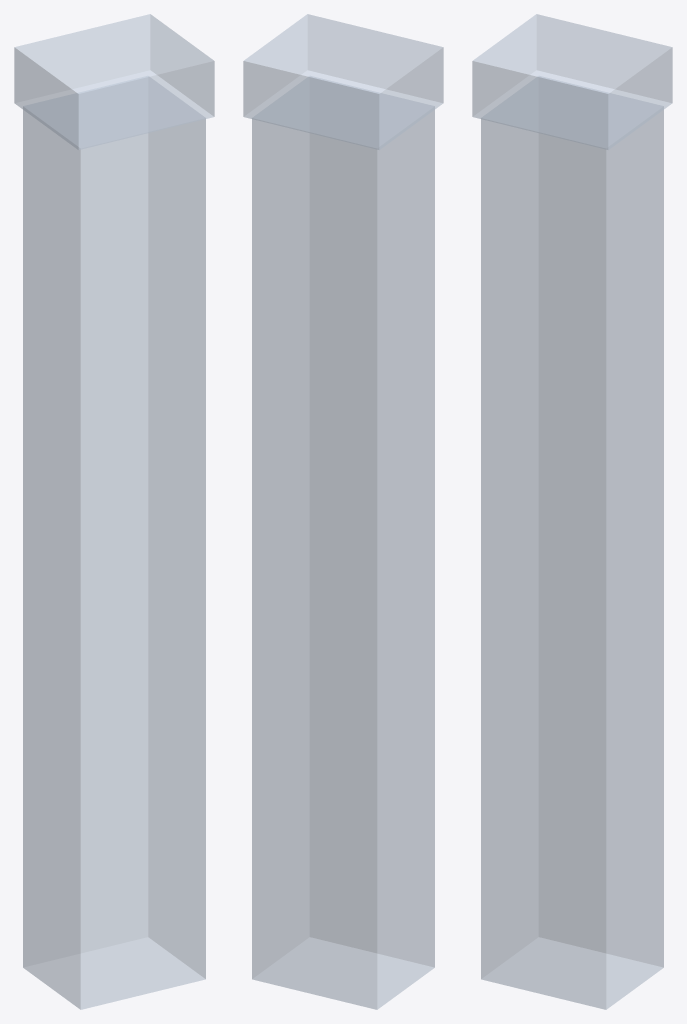
The model's file is shibuya_scramble.glb.
The picture shows the model from 3 angles, left to right: view 1: azimuth 30°, elevation 25°; view 2: azimuth 150°, elevation 25°; view 3: azimuth 330°, elevation 25°; orthographic projection.
Visible parts, largest first — view 1: Cube, Cube.001; view 2: Cube, Cube.001; view 3: Cube, Cube.001.
Part boxes in pixels (x1=…): Cube: x1=23, y1=76, x2=205, y2=1009; Cube.001: x1=14, y1=14, x2=214, y2=149; Cube: x1=252, y1=76, x2=434, y2=1009; Cube.001: x1=243, y1=14, x2=443, y2=149; Cube: x1=481, y1=76, x2=663, y2=1009; Cube.001: x1=472, y1=14, x2=672, y2=149.
Size of the model in its own units: 38 by 246 by 31.
